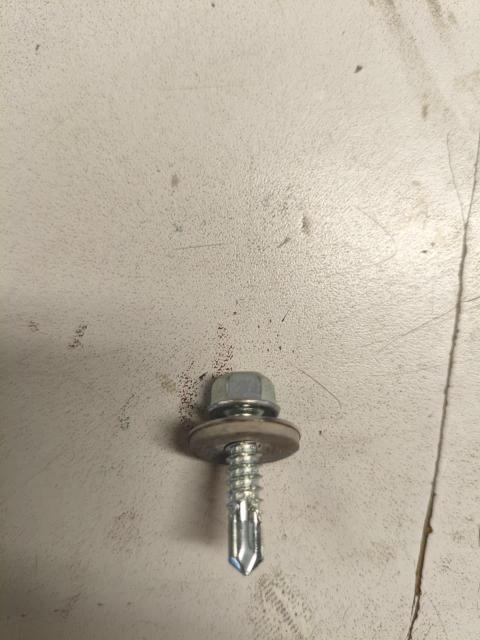Metal: (182, 370, 301, 580)
